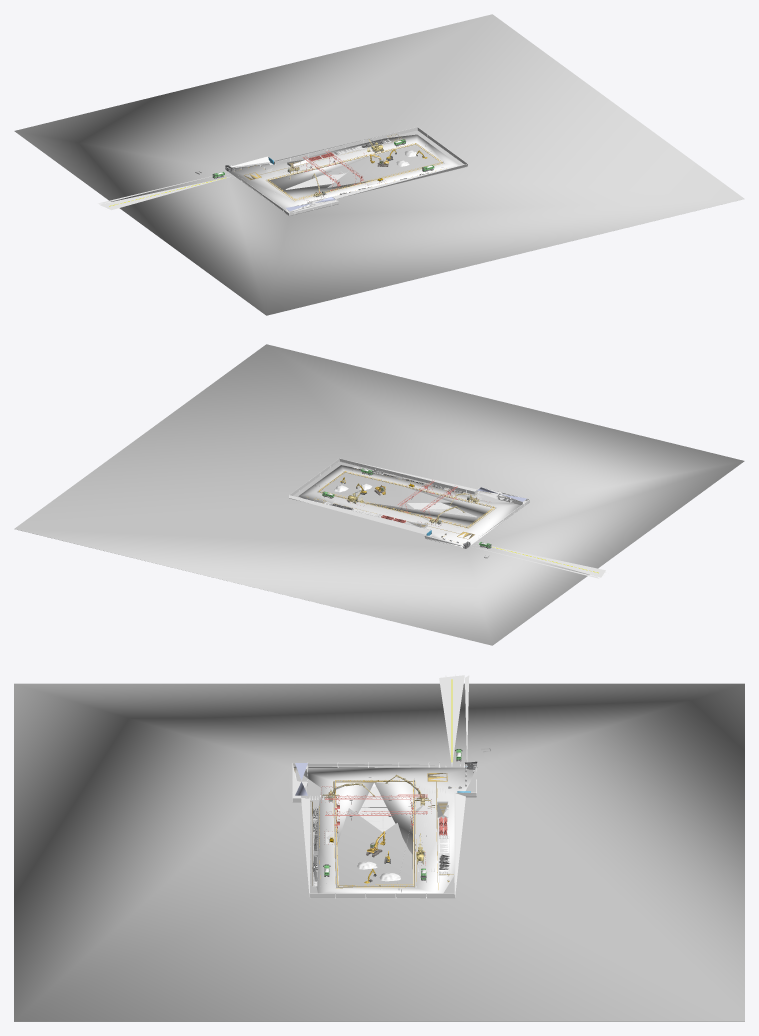
File: factory.glb
3 renders of one model, top to bottom at view 1: azimuth 30°, elevation 25°; view 2: azimuth 150°, elevation 25°; view 3: azimuth 270°, elevation 25°, orthographic. The views are drawn at different scales.
Parts seen in each view (by area): view 1: Rectangle2408, Line31, 对象003, Line37, Rectangle2409, Line38, Line29; view 2: Rectangle2408, Line31, 对象003, Line37, Line38, Rectangle2409, Line29; view 3: Rectangle2408, Line31, 对象003, Line38, Rectangle2409, Line37, Line07, Line7283.
Boxes of the visible parts, box(x1,y1,x2,y2) form: Rectangle2408: box(14, 14, 744, 315); Line31: box(229, 134, 459, 212); 对象003: box(268, 144, 441, 199); Line37: box(230, 127, 466, 211); Rectangle2409: box(99, 176, 230, 210); Line38: box(242, 135, 467, 215); Line29: box(267, 143, 442, 200); Rectangle2408: box(14, 344, 744, 645); Line31: box(298, 465, 520, 547); 对象003: box(320, 472, 493, 527); Line37: box(289, 459, 528, 546); Line38: box(289, 495, 529, 534); Rectangle2409: box(477, 543, 605, 577); Line29: box(319, 471, 494, 527); Rectangle2408: box(14, 683, 744, 1021); Line31: box(294, 767, 474, 893); 对象003: box(335, 782, 413, 886); Line38: box(292, 763, 475, 897); Rectangle2409: box(439, 675, 464, 766); Line37: box(293, 763, 476, 886); Line07: box(358, 786, 419, 882); Line7283: box(292, 763, 476, 893).
Bounding box in the file's own units: 413 × 28.86 × 367.
127 materials, 1 textured.
